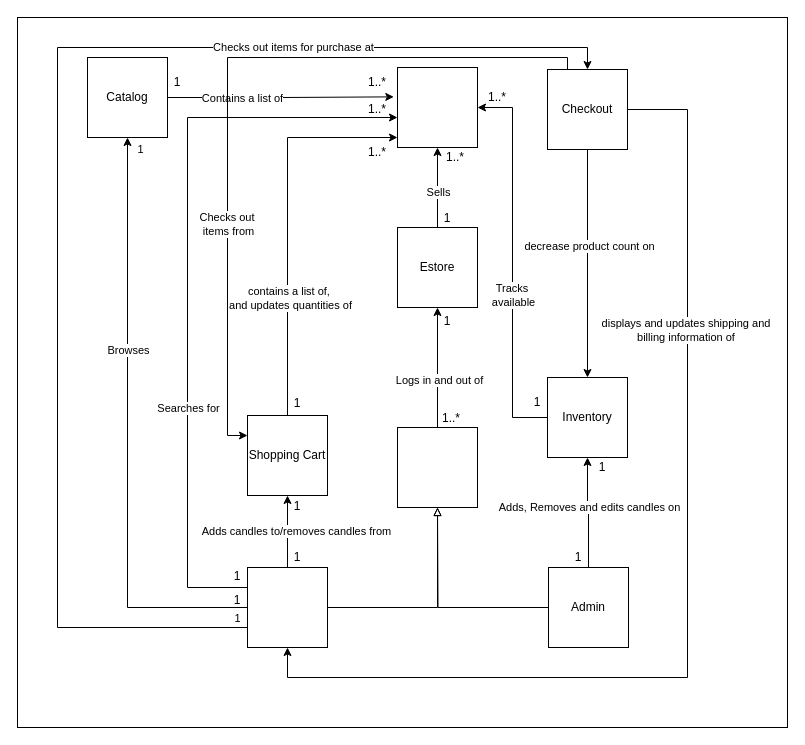
The diagram is 805 pixels wide and 745 high, and some of its shapes have lost their labels. The centre of each missing label's shape, as x and y in pixels:
"Candle - id - name - quantity" belongs at point 437,107.
"Customer - billing info" belongs at point 287,607.
"User - username - Id - password" belongs at point 437,467.
